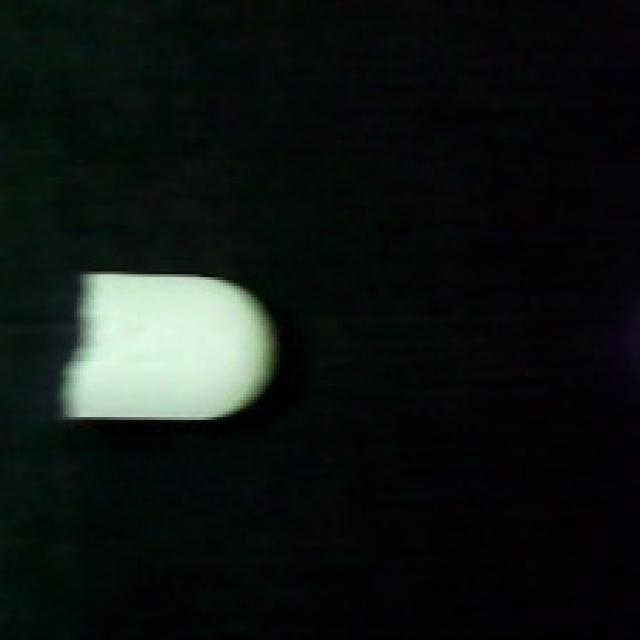defected: (57, 271, 283, 426)
